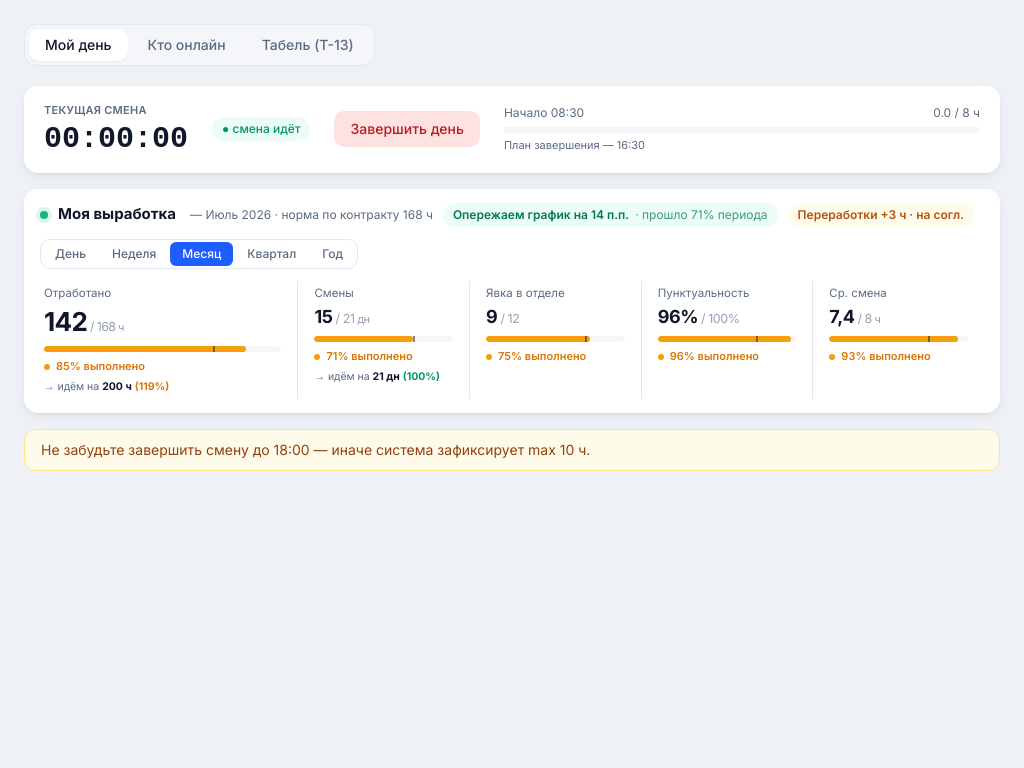
it: WorktimeView › вкладка «Кто онлайн» показывает счётчик 9 / 12 и таблицу сотрудников
The width and height of the screenshot is (1024, 768).
Click the button "Кто онлайн": (187, 45) [132,29,242,61]
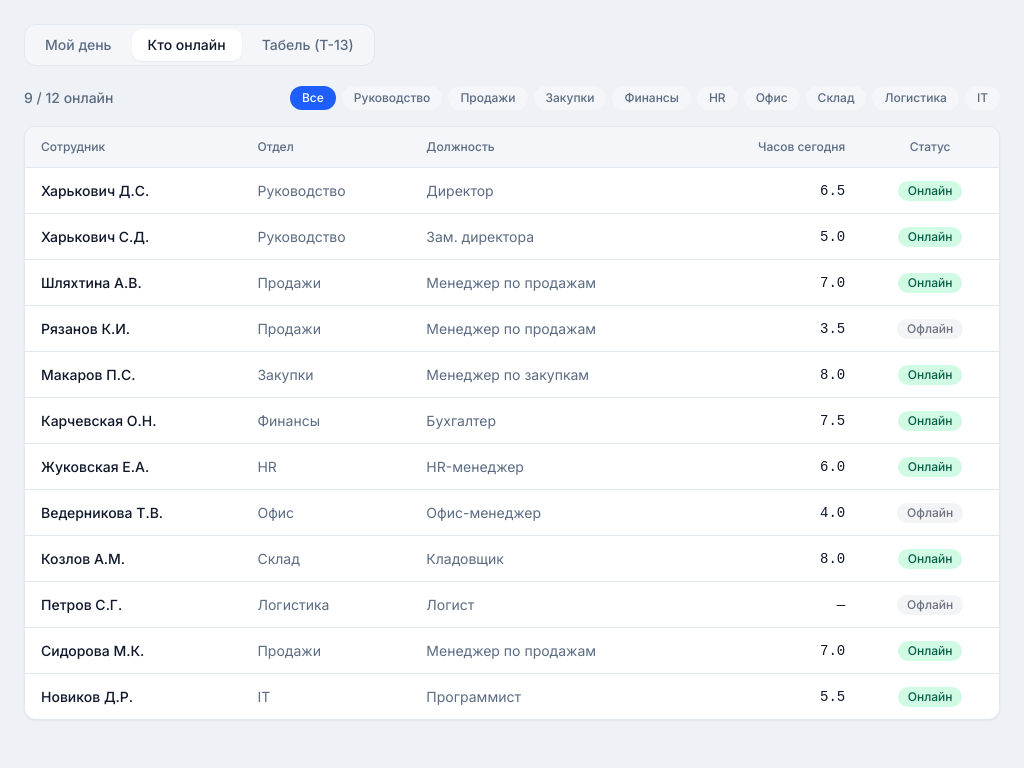
Now the text "9 / 12 онлайн" is shown, box [24,88,113,108]
Now the text "Харькович Д.С." is shown, box [25,168,242,214]
Now the text "Петров С.Г." is shown, box [25,582,242,628]
